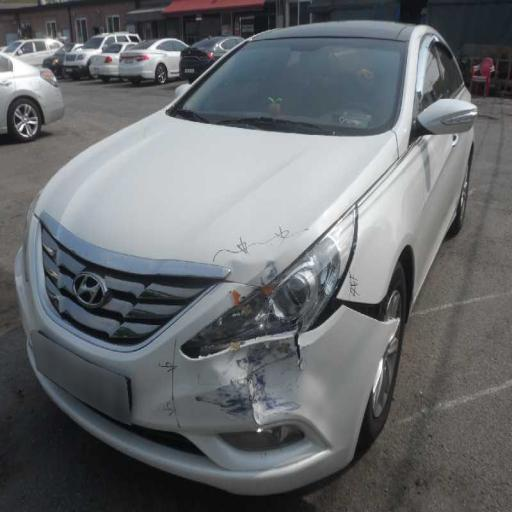broken: (180, 316, 344, 441)
scratch: (213, 222, 322, 437)
